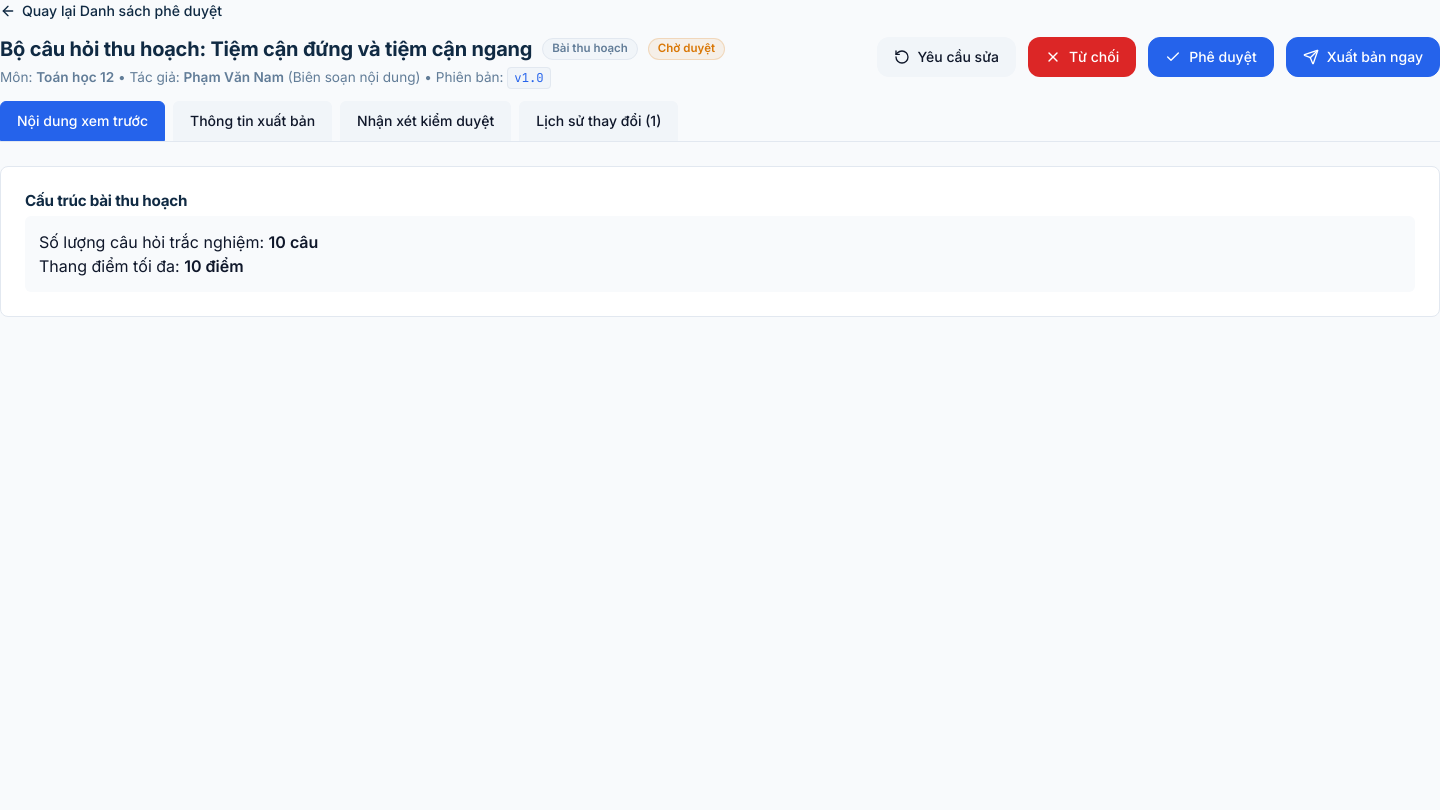
Admin Workspace V5 — Operations, Content Approval & Quality Control Suite › 2. Quản lý phê duyệt nội dung (AdminApprovalsPage & Detail) › requires feedback note when requesting changes
Expected: the heading "Bộ câu hỏi thu hoạch: Tiệm cận đứng và tiệm cận ngang" is shown, left=0, top=36, right=532, bottom=62
Click the button "Yêu cầu sửa" at (946, 56), box left=876, top=36, right=1016, bottom=76
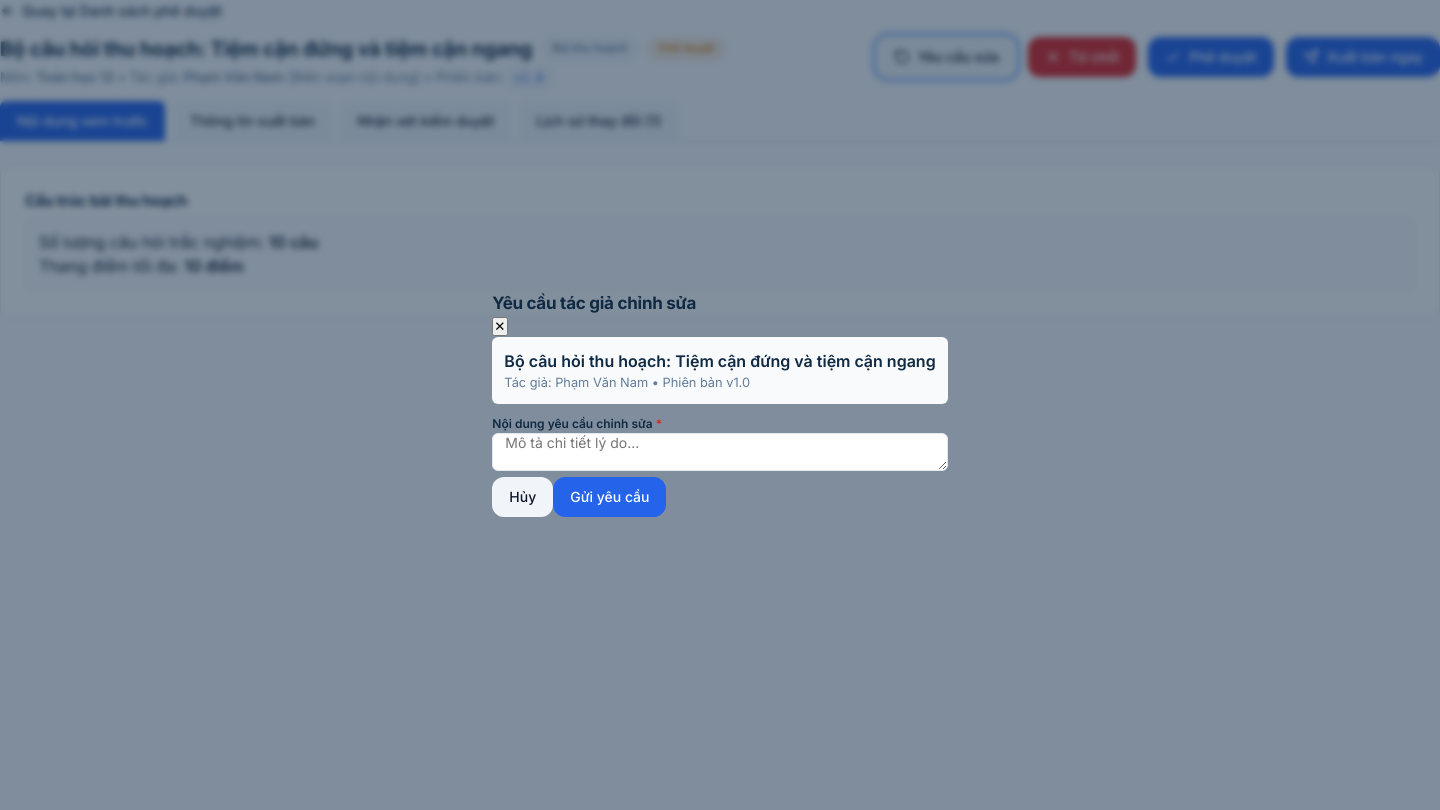
Result: the dialog is shown
Type "Cần bổ sung thêm ví dụ đồ thị hàm bậc 3." into the text box labelled "Nội dung yêu cầu chỉnh sửa *" at (720, 452), box left=492, top=433, right=948, bottom=471
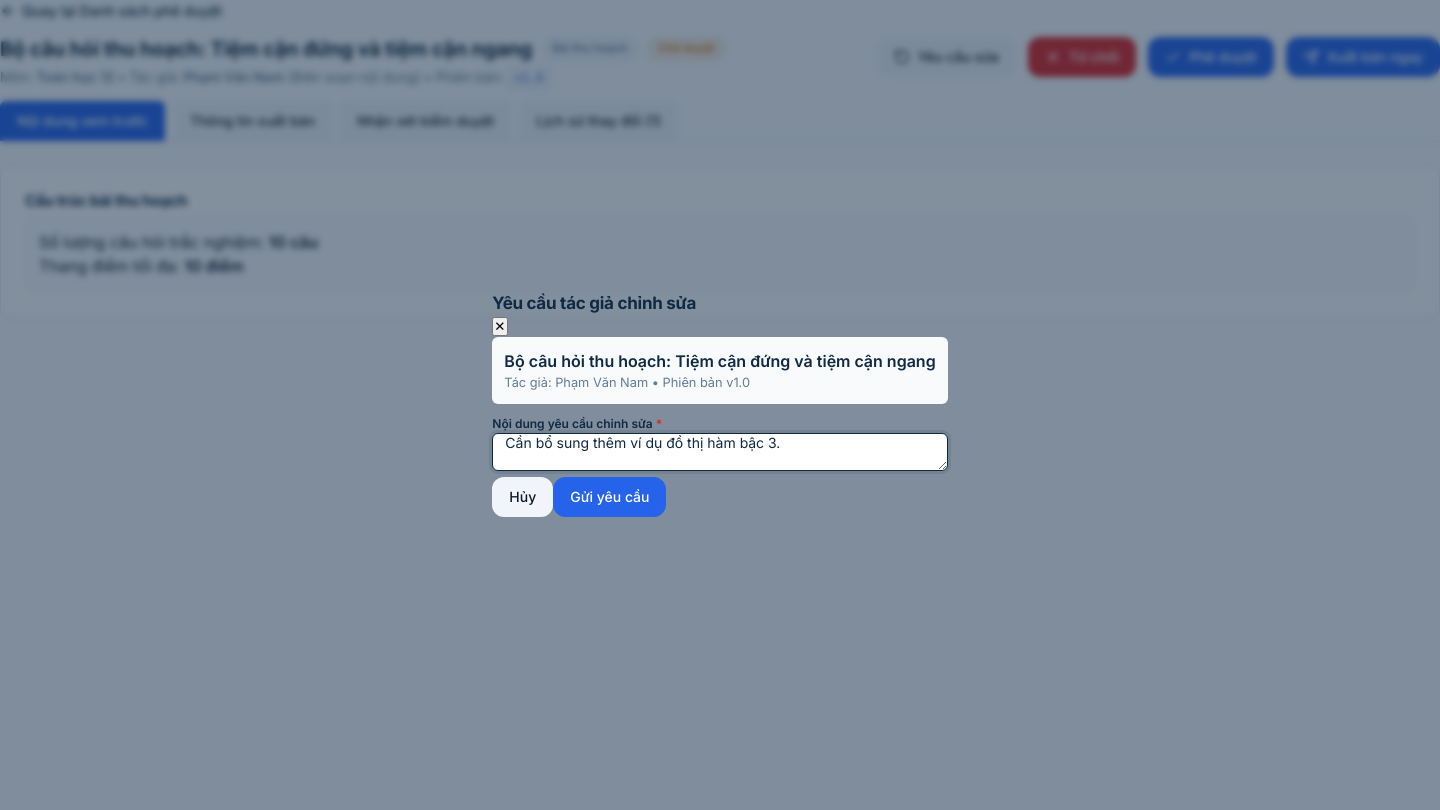
Click the button "Gửi yêu cầu" at (610, 497), box left=553, top=477, right=666, bottom=517
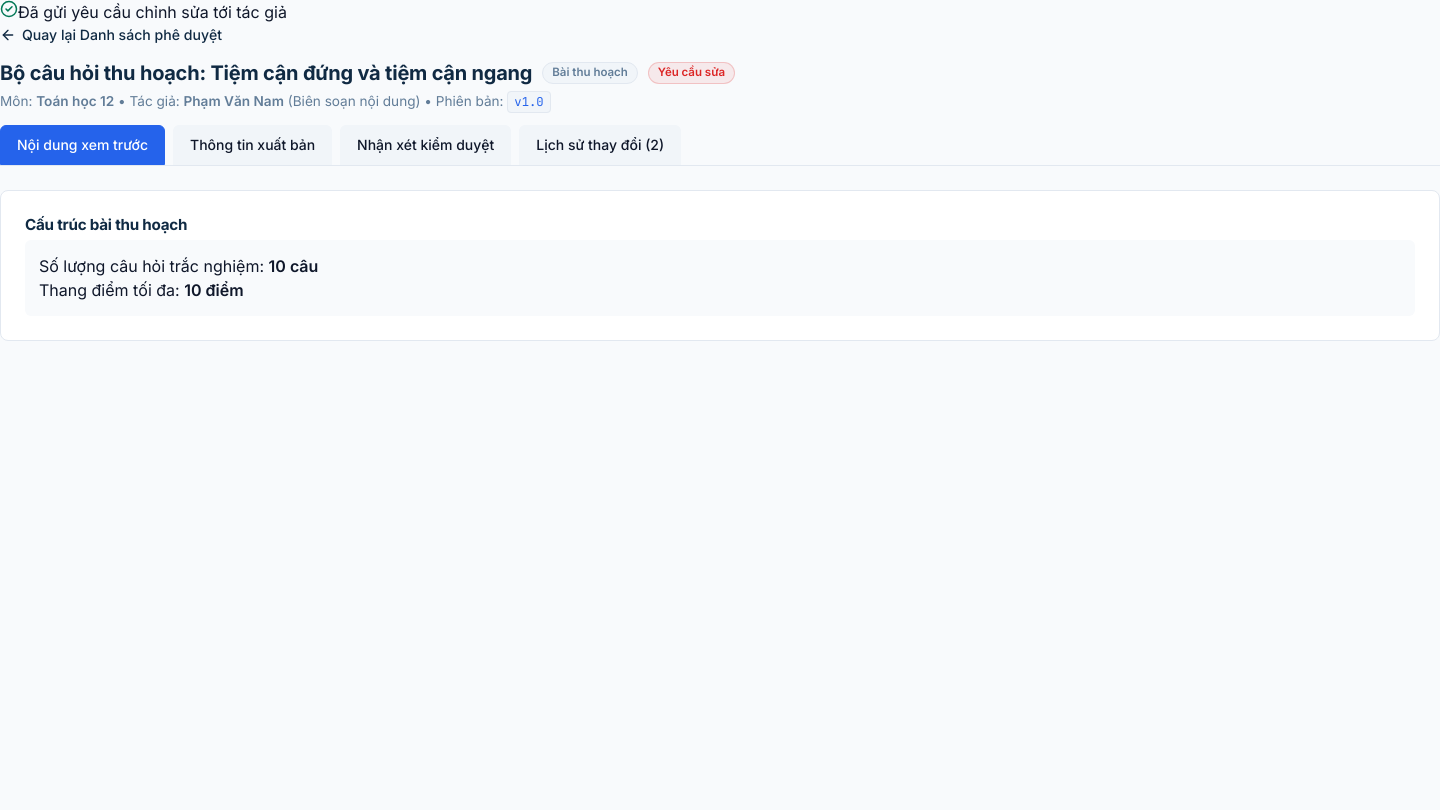
Result: the dialog is gone
